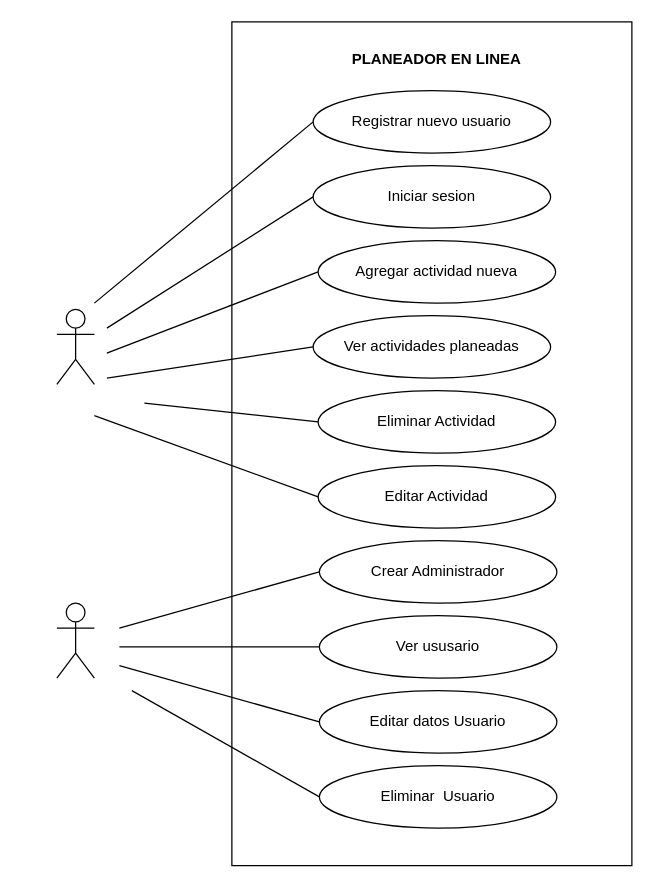
The diagram is 654 pixels wide and 888 high, and some of its shapes have lost their labels. The shapes that lost their labels are listed below. From the top down, each one's centre as x and y in pixels, then its label:
At pixel 75 346: "Docente usuario".
At pixel 75 640: "Administrador".
